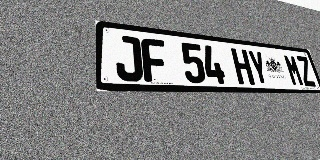4: (201, 45, 226, 84)
5: (180, 42, 207, 83)
F: (141, 38, 169, 82)
H: (231, 48, 255, 85)
J: (114, 35, 144, 82)
M: (283, 54, 305, 86)
Y: (247, 50, 270, 85)
Z: (295, 55, 317, 87)
